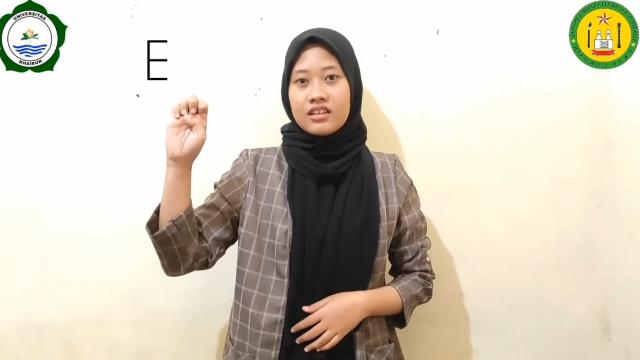E: (163, 94, 209, 166)
